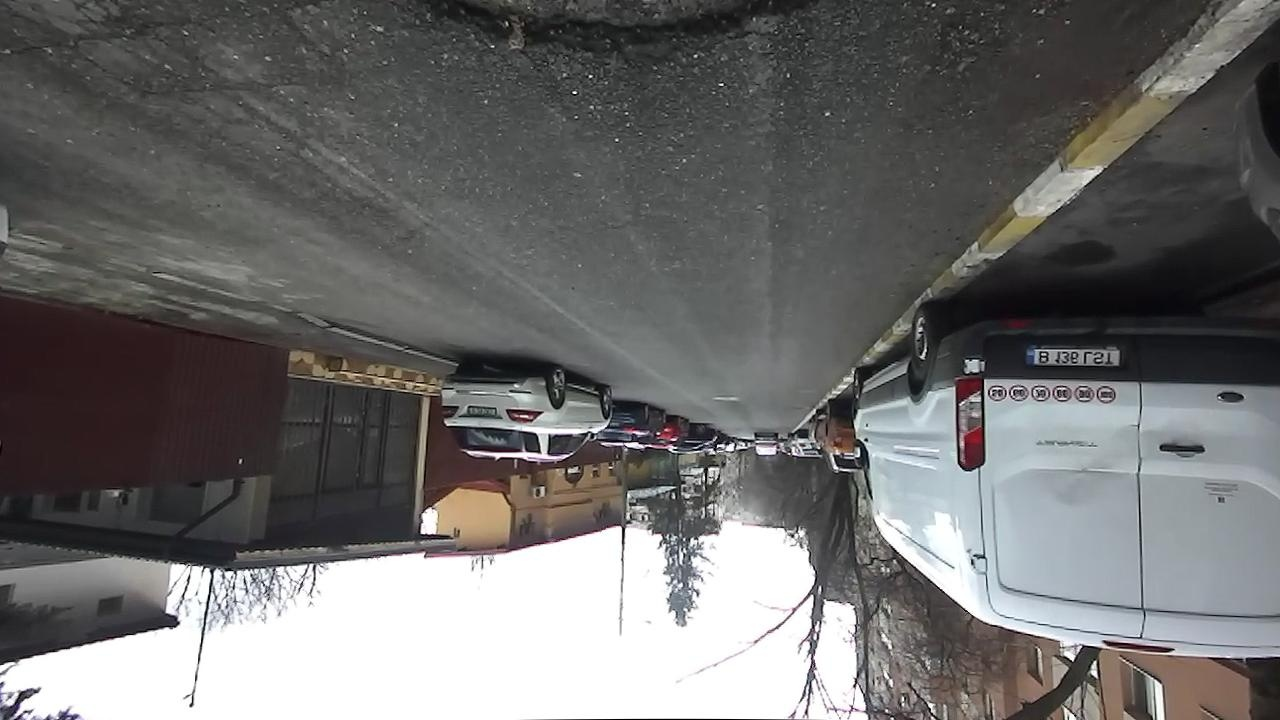pothole: (386, 0, 850, 62)
